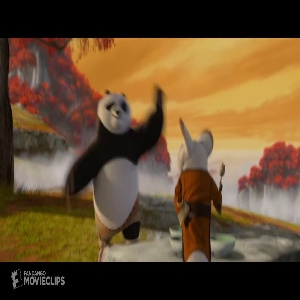po: (65, 83, 168, 247)
shifu: (176, 116, 225, 261)
